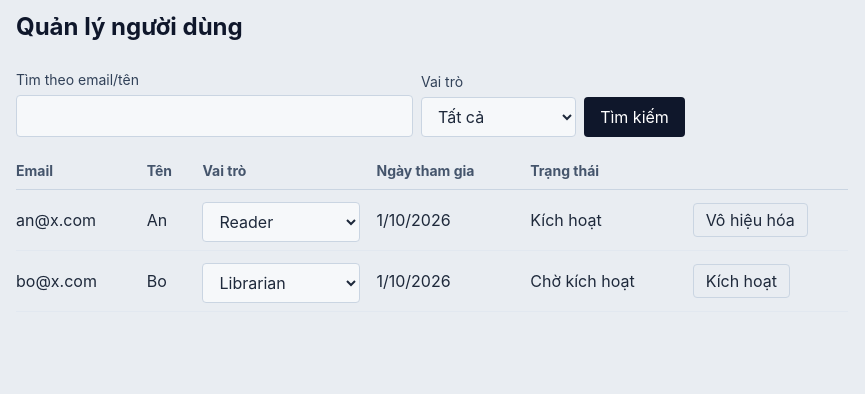
Scenario: Users › shows the server message when the role change is refused
Select "Admin" in the dropdown named "Vai trò của an@x.com". click: (282, 222)
box: x1=202 y1=202 x2=360 y2=242
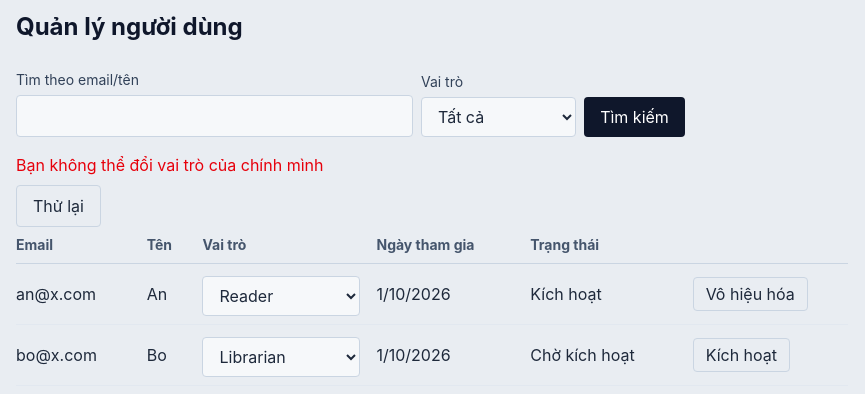
Now the message shows "đổi vai trò của chính mình", box x1=16 y1=155 x2=323 y2=175
